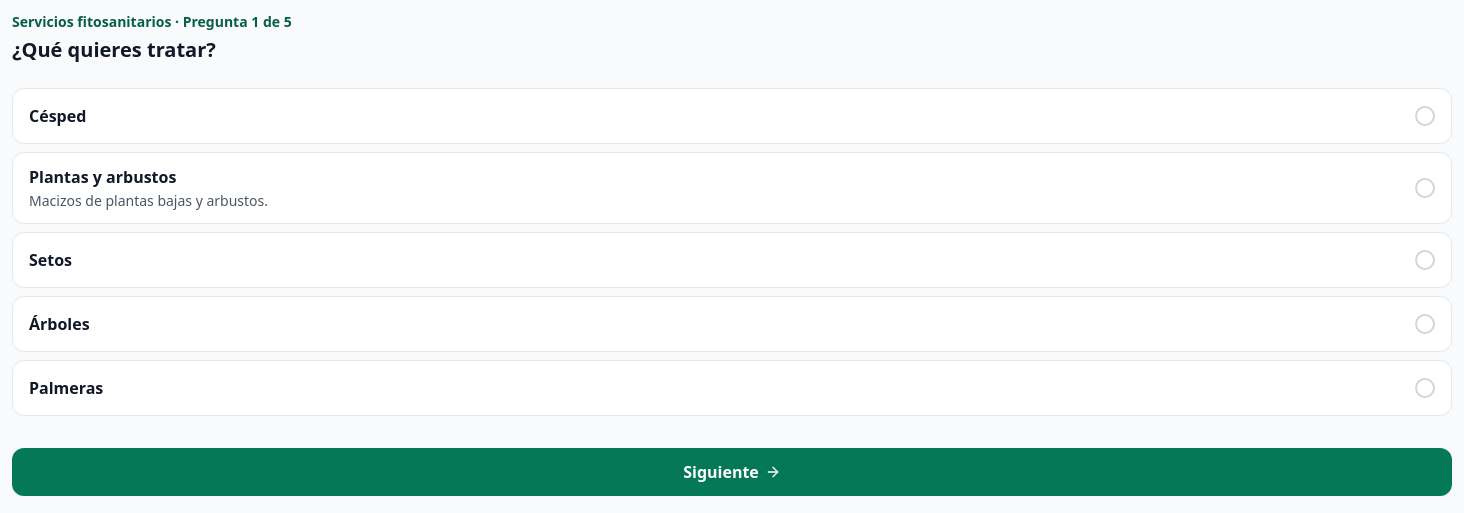
Scenario: fitosanitarios · cantidad y tamaño en una pantalla (D-05, P-08, D-12) › Césped: «¿Cuántos m² de césped hay que tratar?» con el campo «Superficie de césped»
Click the radio button labelled "Césped": (58, 116) [12,88,1452,144]
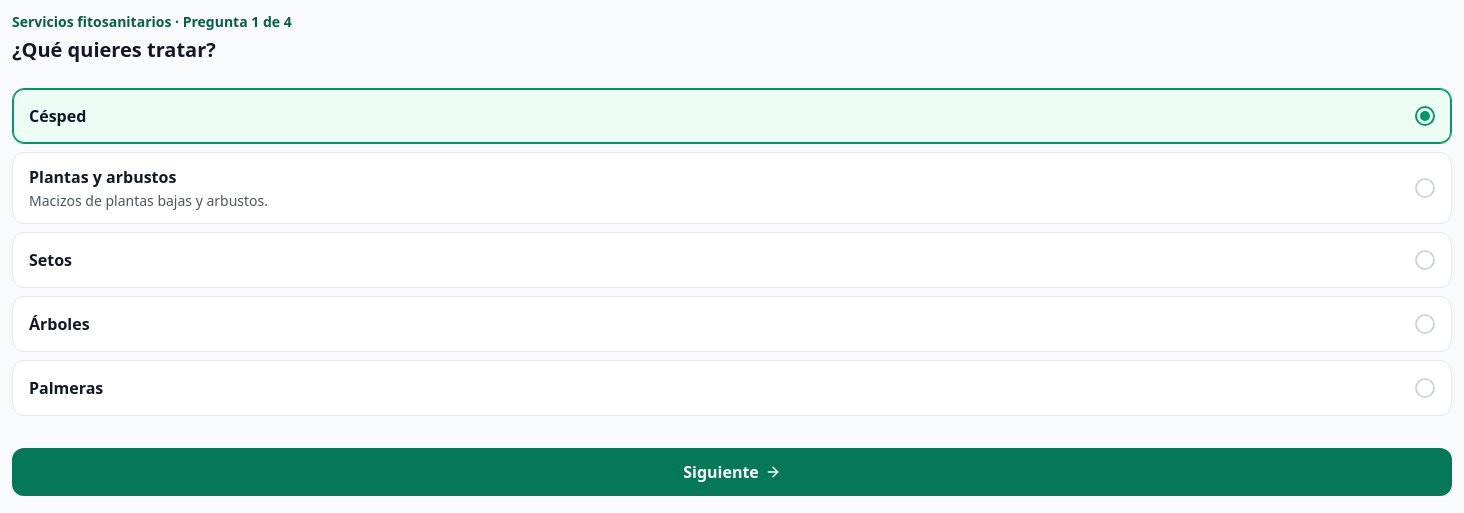
Click the button "Siguiente": (732, 472) [12,448,1452,496]
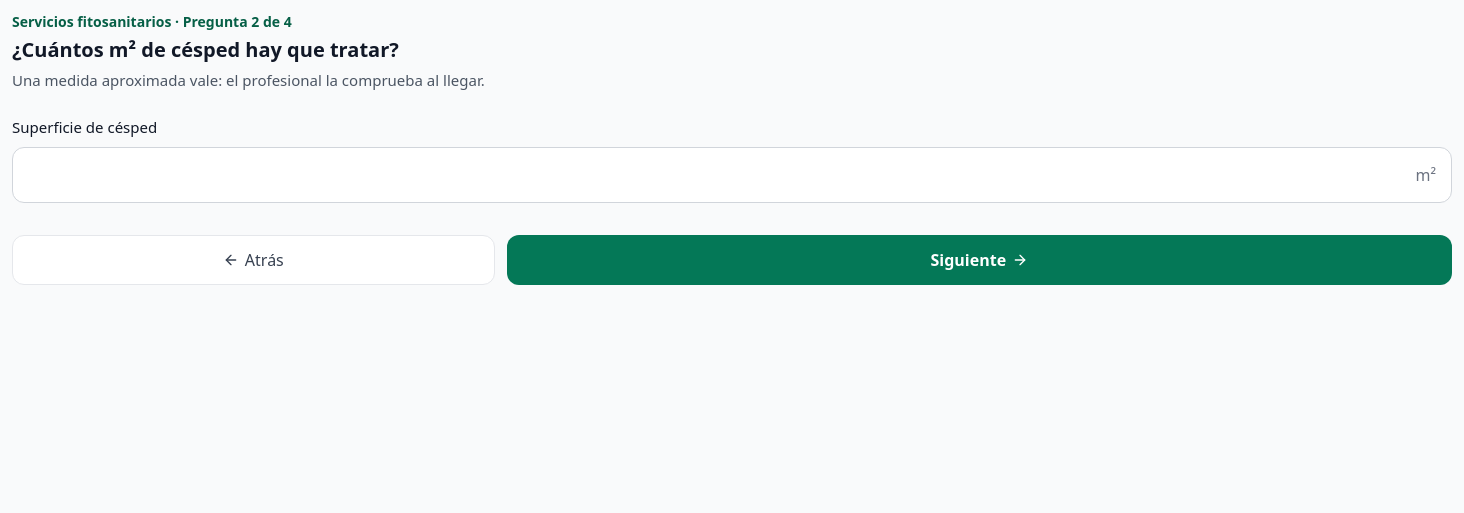
Result: the heading reads "¿Cuántos m² de césped hay que tratar?" at [12,36,399,63]
Result: the field labelled "Superficie de césped" is shown at [12,146,1452,202]
